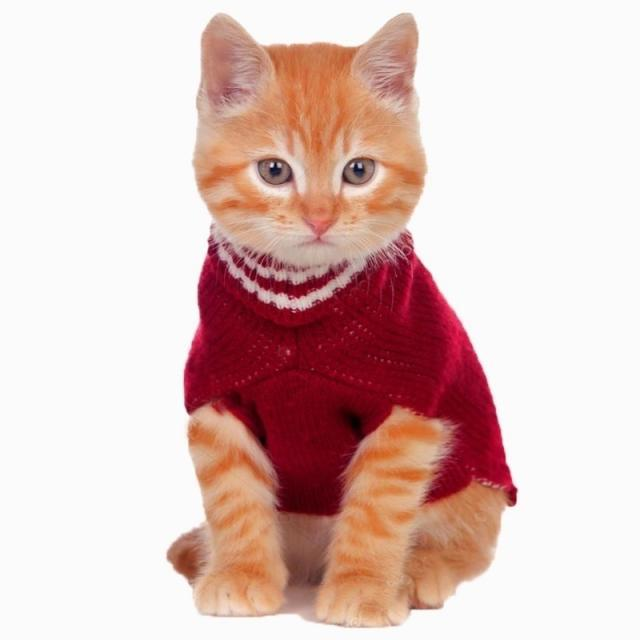cat: (156, 3, 534, 626)
